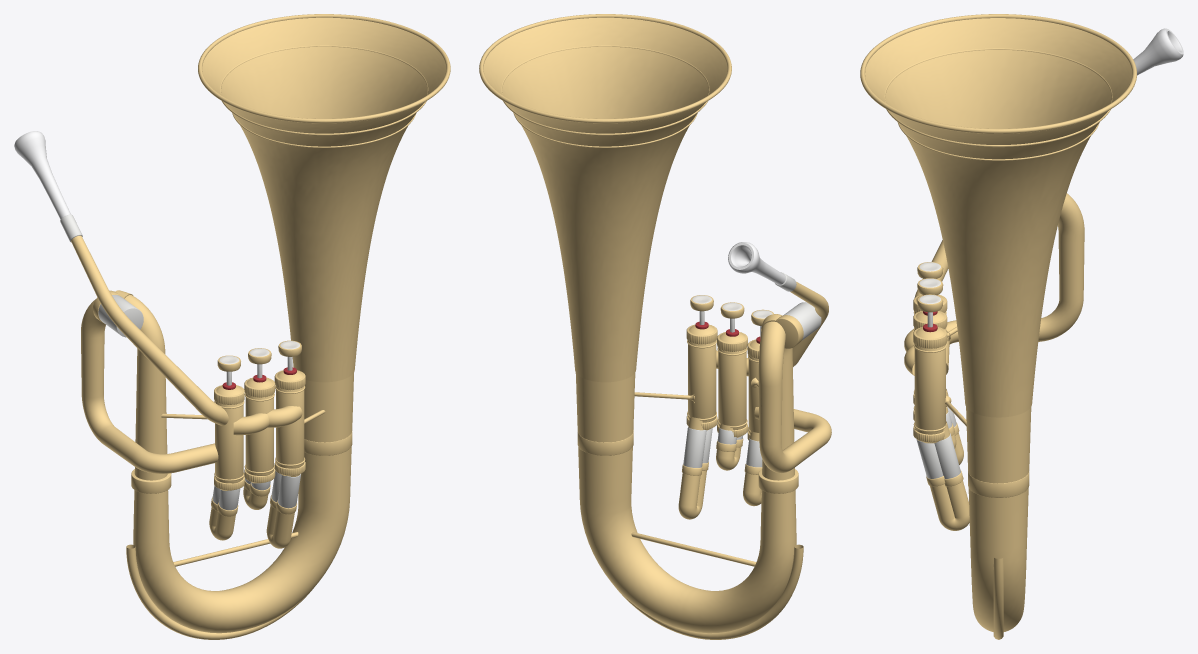
File: euphonium3.glb
3 renders of one model, left to right at view 1: azimuth 30°, elevation 25°; view 2: azimuth 150°, elevation 25°; view 3: azimuth 270°, elevation 25°, orthographic. The views are drawn at different scales.
Visible parts, largest first — view 1: Body; view 2: Body; view 3: Body, valve3.
Part boxes in pixels (left/top/right/bottom): Body: left=14, top=14, right=450, bottom=639; Body: left=479, top=14, right=831, bottom=639; Body: left=860, top=14, right=1183, bottom=639; valve3: left=917, top=294, right=943, bottom=327.
Size of the model in its own units: 0.4711 by 0.7277 by 0.3549.
